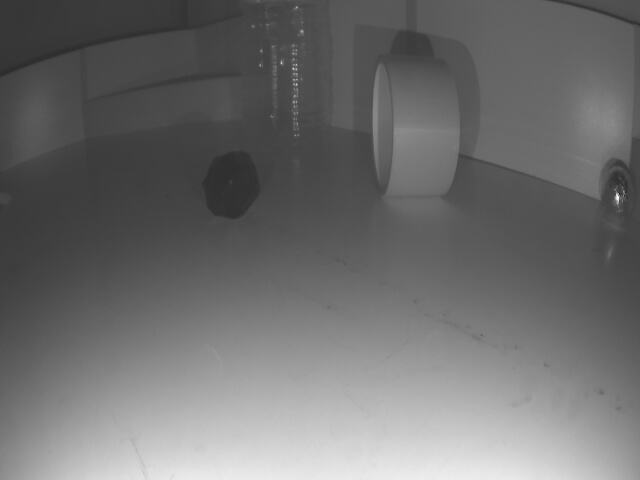Dead: (204, 154, 258, 223)
Live: (600, 162, 635, 224)
Point: (85, 75, 269, 139)
